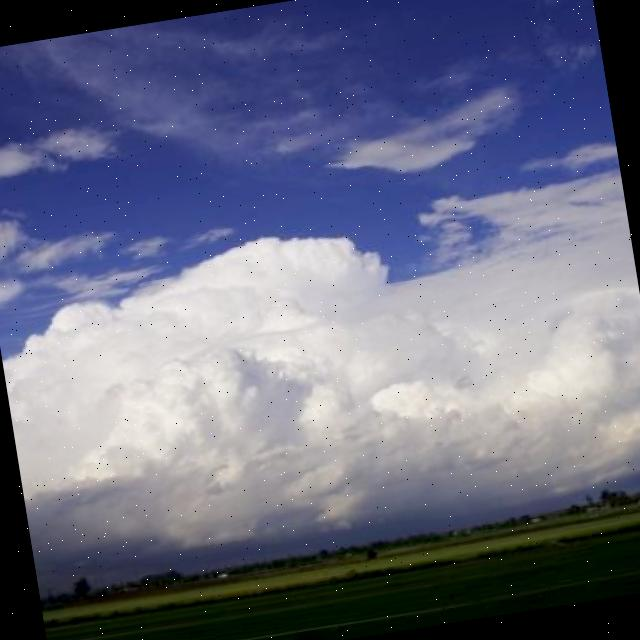Cb: (1, 129, 640, 566)
